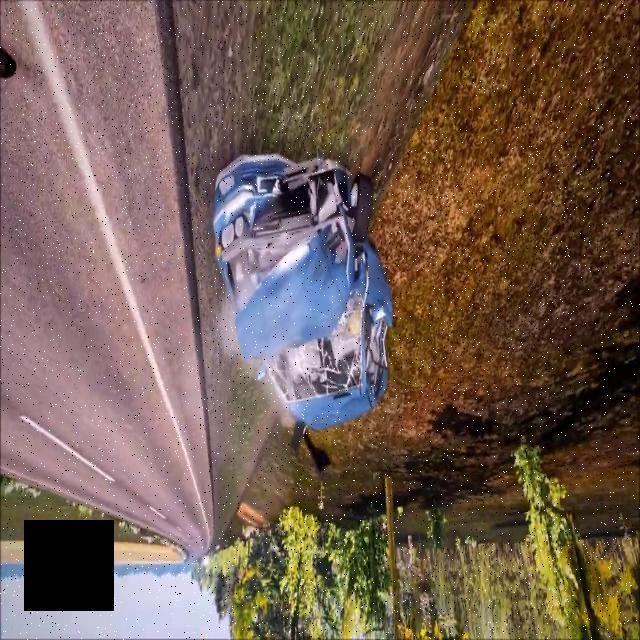severe: (210, 147, 397, 440)
